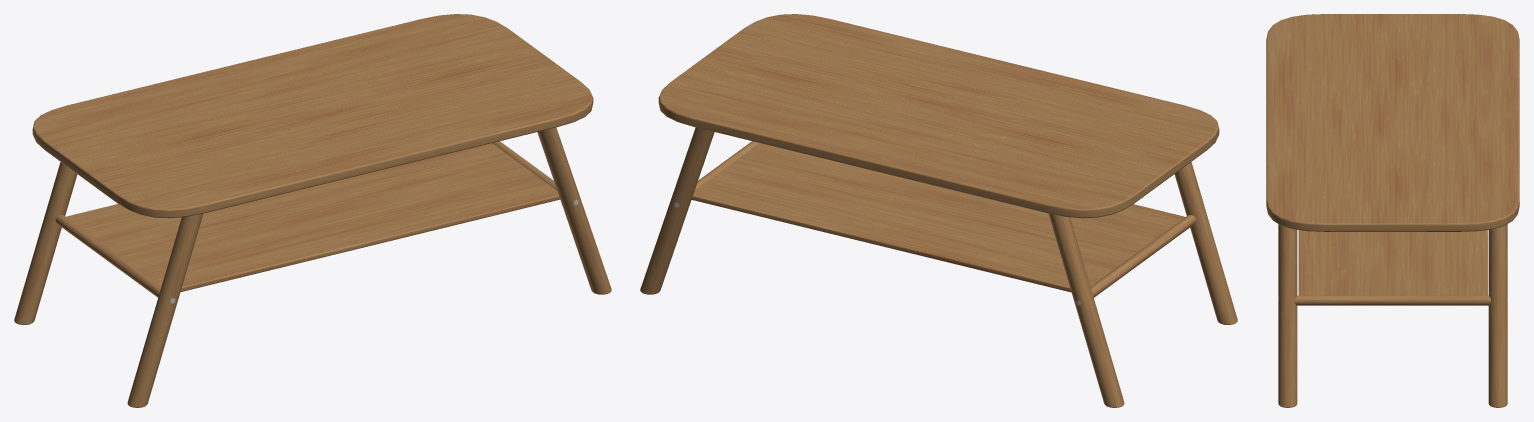
File: coffee_table.obj
3 renders of one model, left to right at view 1: azimuth 30°, elevation 25°; view 2: azimuth 150°, elevation 25°; view 3: azimuth 270°, elevation 25°, orthographic. The views are drawn at different scales.
Visible parts, largest first — view 1: coffee_table; view 2: coffee_table; view 3: coffee_table.
Boxes of the visible parts, x1,y1,x2,y2 form: coffee_table: [14, 14, 611, 407]; coffee_table: [640, 14, 1237, 407]; coffee_table: [1266, 14, 1519, 407].
Size of the model in its own units: 81.46 by 31.44 by 40.
1 material, 1 textured.
